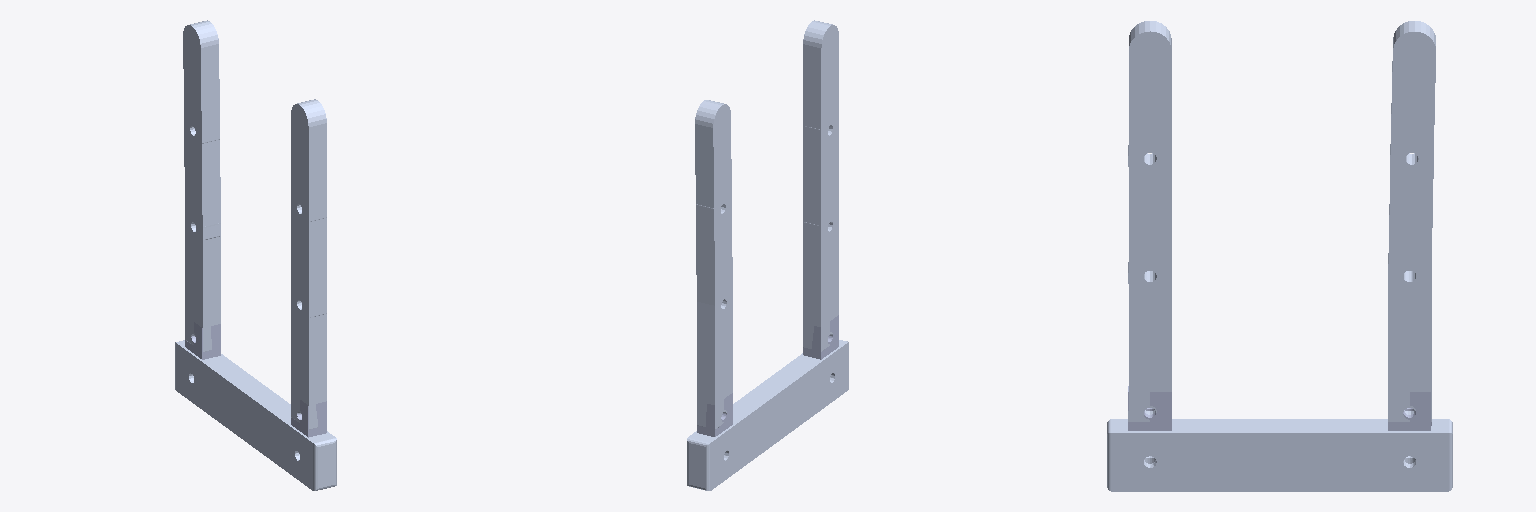
URDF robot description (two_finger_gripper):
<?xml version="1.0" encoding="utf-8"?>
<!-- This URDF was automatically created by SolidWorks to URDF Exporter! Originally created by [author] ([email redacted]) 
     Commit Version: 1.6.0-4-g7f85cfe  Build Version: 1.6.7995.38578
     For more information, please see http://wiki.ros.org/sw_urdf_exporter -->
<robot
  name="two_finger_gripper">
  <link
    name="base_link">
    <inertial>
      <origin
        xyz="8.81354273374553E-09 -4.22886858600738E-07 -1.70898026224046E-08"
        rpy="0 0 0" />
      <mass
        value="0.187618707682634" />
      <inertia
        ixx="0.000403340846571004"
        ixy="1.15856180736469E-10"
        ixz="9.14631350659822E-12"
        iyy="1.77436072317056E-05"
        iyz="-2.20966031792127E-10"
        izz="0.000392747111510324" />
    </inertial>
    <visual>
      <origin
        xyz="0 0 0"
        rpy="0 0 0" />
      <geometry>
        <mesh
          filename="package://two_finger_gripper/meshes/base_link.STL" />
      </geometry>
      <material
        name="">
        <color
          rgba="0.866666666666667 0.909803921568627 1 1" />
      </material>
    </visual>
    <collision>
      <origin
        xyz="0 0 0"
        rpy="0 0 0" />
      <geometry>
        <mesh
          filename="package://two_finger_gripper/meshes/base_link.STL" />
      </geometry>
    </collision>
  </link>
  <link
    name="right_side">
    <inertial>
      <origin
        xyz="2.08166817117217E-17 2.8652322981988E-08 0.00999999876379252"
        rpy="1.5708 0 -1.5828" />
      <mass
        value="0.00400455448945673" />
      <inertia
        ixx="1.92052268591215E-07"
        ixy="8.65203978677214E-13"
        ixz="-4.99818541676623E-14"
        iyy="2.10355619255483E-07"
        iyz="-1.41858307695259E-19"
        izz="2.97791048750068E-07" />
    </inertial>
    <visual>
      <origin
        xyz="0 0 0"
        rpy="1.5708 0 -1.5828" />
      <geometry>
        <mesh
          filename="package://two_finger_gripper/meshes/right_side.STL" />
      </geometry>
      <material
        name="">
        <color
          rgba="0.792156862745098 0.819607843137255 0.933333333333333 1" />
      </material>
    </visual>
    <collision>
      <origin
        xyz="0 0 0"
        rpy="1.5708 0 -1.5828" />
      <geometry>
        <mesh
          filename="package://two_finger_gripper/meshes/right_side.STL" />
      </geometry>
    </collision>
  </link>
  <joint
    name="right_base_joint"
    type="revolute">
    <origin
      xyz="0 0.06005 0.015"
      rpy="0 0 0" />
    <parent
      link="base_link" />
    <child
      link="right_side" />
    <axis
      xyz="0 0 1" />
    <limit
      lower="-0.5235"
      upper="0.5235"
      effort="10.0"
      velocity="4.0" />
  </joint>
  <link
    name="R1">
    <inertial>
      <origin
        xyz="1.26851654180804E-17 2.28983498828939E-16 0.0350000000000001"
        rpy="1.57 0 0" />
      <mass
        value="0.0498429795113518" />
      <inertia
        ixx="2.68907785888968E-05"
        ixy="-8.23210145612773E-21"
        ixz="1.45583787809333E-22"
        iyy="2.31661213105638E-06"
        iyz="5.44727756250782E-12"
        izz="2.57685006174922E-05" />
    </inertial>
    <visual>
      <origin
        xyz="0 0 0"
        rpy="1.57 0 0" />
      <geometry>
        <mesh
          filename="package://two_finger_gripper/meshes/R1.STL" />
      </geometry>
      <material
        name="">
        <color
          rgba="0.866666666666667 0.909803921568627 1 1" />
      </material>
    </visual>
    <collision>
      <origin
        xyz="0 0 0"
        rpy="1.57 0 0" />
      <geometry>
        <mesh
          filename="package://two_finger_gripper/meshes/R1.STL" />
      </geometry>
    </collision>
  </link>
  <joint
    name="R1_joint"
    type="revolute">
    <origin
      xyz="0 0.0 0.009"
      rpy="0 0 0" />
    <parent
      link="right_side" />
    <child
      link="R1" />
    <axis
      xyz="1 0 0" />
    <limit
      lower="-1.57"
      upper="0.5235"
      effort="10.0"
      velocity="4.0" />
  </joint>
  <link
    name="R2">
    <inertial>
      <origin
        xyz="-4.56796454828545E-10 0 0.0296521459141245"
        rpy="1.4 0 0" />
      <mass
        value="0.0433629505400265" />
      <inertia
        ixx="1.82012341198528E-05"
        ixy="4.22211999752767E-21"
        ixz="7.54388718648361E-22"
        iyy="2.37316309026694E-06"
        iyz="-2.28036734065714E-06"
        izz="1.68668845317301E-05" />
    </inertial>
    <visual>
      <origin
        xyz="0 0 0"
        rpy="1.4 0 0" />
      <geometry>
        <mesh
          filename="package://two_finger_gripper/meshes/R2.STL" />
      </geometry>
      <material
        name="">
        <color
          rgba="0.866666666666667 0.909803921568627 1 1" />
      </material>
    </visual>
    <collision>
      <origin
        xyz="0 0 0"
        rpy="1.4 0 0" />
      <geometry>
        <mesh
          filename="package://two_finger_gripper/meshes/R2.STL" />
      </geometry>
    </collision>
  </link>
  <joint
    name="R2_joint"
    type="revolute">
    <origin
      xyz="0 0.0 0.07"
      rpy="0 0 0" />
    <parent
      link="R1" />
    <child
      link="R2" />
    <axis
      xyz="1 0 0" />
    <limit
      lower="-0.5235"
      upper="2"
      effort="10.0"
      velocity="4.0" />
  </joint>
  <link
    name="R3">
    <inertial>
      <origin
        xyz="-1.69162753791731E-10 0 0.0283253438069827"
        rpy="1.25 0 0" />
      <mass
        value="0.0429708583079173" />
      <inertia
        ixx="1.75254049269463E-05"
        ixy="-1.65519553713868E-13"
        ixz="-2.03891445606294E-13"
        iyy="3.20880478988122E-06"
        iyz="-4.13484726157431E-06"
        izz="1.53469520450817E-05" />
    </inertial>
    <visual>
      <origin
        xyz="0 0.001 0"
        rpy="1.25 0 0" />
      <geometry>
        <mesh
          filename="package://two_finger_gripper/meshes/R3.STL" />
      </geometry>
      <material
        name="">
        <color
          rgba="0.866666666666667 0.909803921568627 1 1" />
      </material>
    </visual>
    <collision>
      <origin
        xyz="0 0.001 0"
        rpy="1.25 0 0" />
      <geometry>
        <mesh
          filename="package://two_finger_gripper/meshes/R3.STL" />
      </geometry>
    </collision>
  </link>
  <joint
    name="R3_joint"
    type="revolute">
    <origin
      xyz="0 0 0.06"
      rpy="0 0 0" />
    <parent
      link="R2" />
    <child
      link="R3" />
    <axis
      xyz="1 0 0" />
    <limit
      lower="-0.5235"
      upper="1.57"
      effort="10.0"
      velocity="4.0" />
  </joint>
  <link
    name="left_side">
    <inertial>
      <origin
        xyz="0 2.86523228808862E-08 0.00999999876379255"
        rpy="1.5708 0 -1.577" />
      <mass
        value="0.00400455448945672" />
      <inertia
        ixx="1.92052268591215E-07"
        ixy="8.65203978749533E-13"
        ixz="-4.99818541784156E-14"
        iyy="2.10355619255482E-07"
        iyz="-1.41830818818275E-19"
        izz="2.97791048750067E-07" />
    </inertial>
    <visual>
      <origin
        xyz="0 0 0"
        rpy="1.5708 0 -1.577" />
      <geometry>
        <mesh
          filename="package://two_finger_gripper/meshes/left_side.STL" />
      </geometry>
      <material
        name="">
        <color
          rgba="0.792156862745098 0.819607843137255 0.933333333333333 1" />
      </material>
    </visual>
    <collision>
      <origin
        xyz="0 0 0"
        rpy="1.5708 0 -1.577" />
      <geometry>
        <mesh
          filename="package://two_finger_gripper/meshes/left_side.STL" />
      </geometry>
    </collision>
  </link>
  <joint
    name="left_base_joint"
    type="revolute">
    <origin
      xyz="0 -0.060046 0.015"
      rpy="0 0 0" />
    <parent
      link="base_link" />
    <child
      link="left_side" />
    <axis
      xyz="0 0 1" />
    <limit
      lower="-0.5235"
      upper="0.5235"
      effort="10.0"
      velocity="4.0" />
  </joint>
  <link
    name="L1">
    <inertial>
      <origin
        xyz="-4.56040182505134E-10 0 0.0350000000000008"
        rpy="1.57 0 0" />
      <mass
        value="0.0498429374208329" />
      <inertia
        ixx="2.68907345933772E-05"
        ixy="3.69278240862048E-20"
        ixz="3.90429249125029E-22"
        iyy="2.31660840247375E-06"
        iyz="1.72037113675422E-11"
        izz="2.57684595575646E-05" />
    </inertial>
    <visual>
      <origin
        xyz="0 0 0"
        rpy="1.57 0 0" />
      <geometry>
        <mesh
          filename="package://two_finger_gripper/meshes/L1.STL" />
      </geometry>
      <material
        name="">
        <color
          rgba="0.866666666666667 0.909803921568627 1 1" />
      </material>
    </visual>
    <collision>
      <origin
        xyz="0 0 0"
        rpy="1.57 0 0" />
      <geometry>
        <mesh
          filename="package://two_finger_gripper/meshes/L1.STL" />
      </geometry>
    </collision>
  </link>
  <joint
    name="L1_joint"
    type="revolute">
    <origin
      xyz="0 0 0.009"
      rpy="0 0 0" />
    <parent
      link="left_side" />
    <child
      link="L1" />
    <axis
      xyz="1 0 0" />
    <limit
      lower="-0.5235"
      upper="1.57"
      effort="10.0"
      velocity="4.0" />
  </joint>
  <link
    name="L2">
    <inertial>
      <origin
        xyz="0 0 0.035"
        rpy="1.57 0 0" />
      <mass
        value="0.0433629505400265" />
      <inertia
        ixx="1.82012341198528E-05"
        ixy="1.26644453709166E-20"
        ixz="-1.05879118406788E-22"
        iyy="2.02284897334824E-06"
        iyz="1.38370400837543E-11"
        izz="1.72171986486488E-05" />
    </inertial>
    <visual>
      <origin
        xyz="0 0 0"
        rpy="1.57 0 0" />
      <geometry>
        <mesh
          filename="package://two_finger_gripper/meshes/L2.STL" />
      </geometry>
      <material
        name="">
        <color
          rgba="0.866666666666667 0.909803921568627 1 1" />
      </material>
    </visual>
    <collision>
      <origin
        xyz="0 0 0"
        rpy="1.57 0 0" />
      <geometry>
        <mesh
          filename="package://two_finger_gripper/meshes/L2.STL" />
      </geometry>
    </collision>
  </link>
  <joint
    name="L2_joint"
    type="revolute">
    <origin
      xyz="0 0 0.07"
      rpy="0 0 0" />
    <parent
      link="L1" />
    <child
      link="L2" />
    <axis
      xyz="1 0 0" />
    <limit
      lower="-2"
      upper="1.57"
      effort="10.0"
      velocity="4.0" />
  </joint>
  <link
    name="L3">
    <inertial>
      <origin
        xyz="-2.66025734427244E-10 0 0.029"
        rpy="1.57 0 0" />
      <mass
        value="0.0429708569563452" />
      <inertia
        ixx="1.75254039654221E-05"
        ixy="-3.3850578916699E-13"
        ixz="-1.41606523806871E-13"
        iyy="1.93413163301078E-06"
        iyz="6.17860438572964E-12"
        izz="1.66216242182399E-05" />
    </inertial>
    <visual>
      <origin
        xyz="0 0 0"
        rpy="1.57 0 0" />
      <geometry>
        <mesh
          filename="package://two_finger_gripper/meshes/L3.STL" />
      </geometry>
      <material
        name="">
        <color
          rgba="0.866666666666667 0.909803921568627 1 1" />
      </material>
    </visual>
    <collision>
      <origin
        xyz="0 0 0"
        rpy="1.57 0 0" />
      <geometry>
        <mesh
          filename="package://two_finger_gripper/meshes/L3.STL" />
      </geometry>
    </collision>
  </link>
  <joint
    name="L3_joint"
    type="revolute">
    <origin
      xyz="0 0 0.06"
      rpy="0 0 0" />
    <parent
      link="L2" />
    <child
      link="L3" />
    <axis
      xyz="1 0 0" />
    <limit
      lower="-1.57"
      upper="0.5235"
      effort="10.0"
      velocity="4.0" />
  </joint>
</robot>

--- Render facts (derived) ---
Views: 3 orthographic renders of the robot side by side, from view 1: azimuth 30°, elevation 25°; view 2: azimuth 150°, elevation 25°; view 3: azimuth 270°, elevation 25°.
Robot: two_finger_gripper — 9 links, 8 joints (8 revolute); root link base_link; default pose: every joint at zero.
Visible links, largest first — view 1: base_link, R3, L3, R1, L1, L2, R2, left_side, right_side; view 2: base_link, L1, R1, L3, R3, R2, L2, right_side, left_side; view 3: base_link, R1, R3, L1, L3, L2, R2, left_side, right_side.
Link boxes in pixels (<box>): base_link: <box>175,340,336,490</box>; R3: <box>183,20,219,143</box>; L3: <box>291,99,326,221</box>; R1: <box>185,218,220,351</box>; L1: <box>291,292,326,429</box>; L2: <box>291,197,326,317</box>; R2: <box>184,120,220,239</box>; left_side: <box>291,400,326,437</box>; right_side: <box>185,322,220,359</box>; base_link: <box>687,340,848,490</box>; L1: <box>803,214,838,351</box>; R1: <box>697,298,732,429</box>; L3: <box>803,20,838,135</box>; R3: <box>695,100,731,221</box>; R2: <box>696,196,732,312</box>; L2: <box>803,123,838,238</box>; right_side: <box>697,393,732,436</box>; left_side: <box>803,315,838,359</box>; base_link: <box>1107,419,1452,491</box>; R1: <box>1388,269,1431,421</box>; R3: <box>1390,21,1435,166</box>; L1: <box>1128,269,1171,421</box>; L3: <box>1128,21,1171,166</box>; L2: <box>1128,151,1171,283</box>; R2: <box>1388,151,1433,284</box>; left_side: <box>1128,386,1171,430</box>; right_side: <box>1388,392,1431,430</box>.
Bounding box of the posed robot: 0.015 × 0.16 × 0.234 m (x, y, z).
Meshes: 9 distinct files referenced, 9 mesh visuals loaded (9 binary STL).